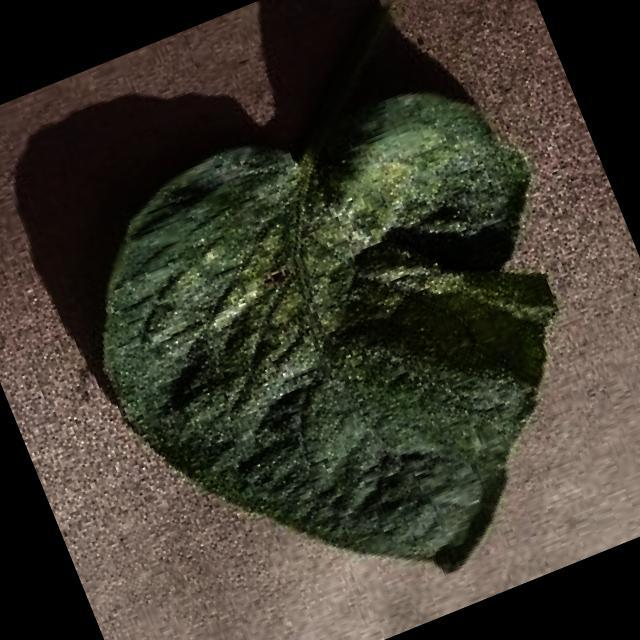Tomato spider mites leaf: (45, 44, 640, 640)
